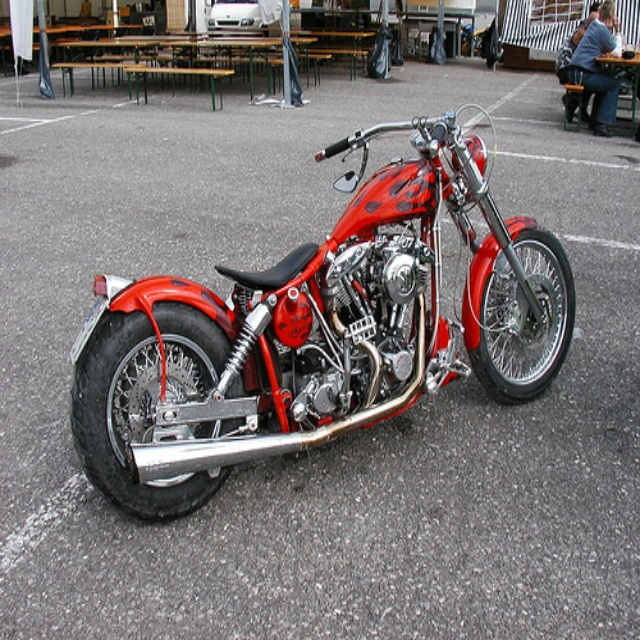Motorcycle: (68, 102, 575, 522)
